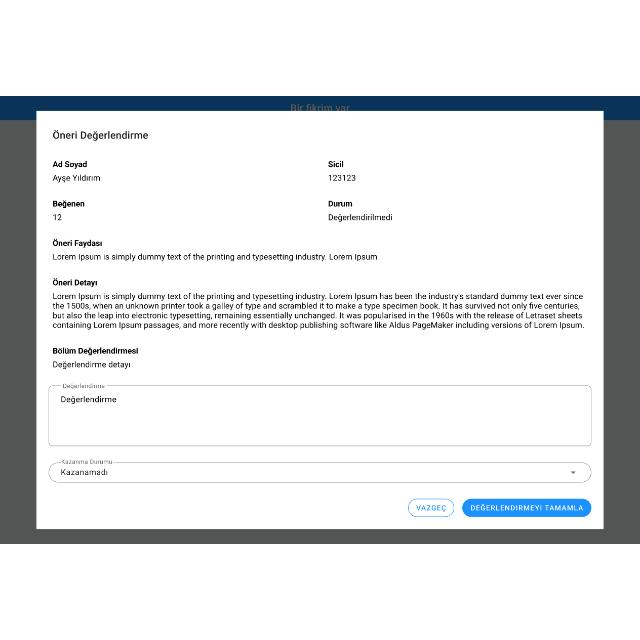QLabel: (50, 291, 586, 331), (48, 252, 378, 262), (50, 129, 150, 143), (470, 504, 584, 514), (50, 346, 138, 356), (48, 361, 134, 371), (324, 212, 394, 224), (50, 238, 106, 250), (50, 277, 100, 287), (51, 174, 101, 182), (51, 160, 89, 170), (324, 198, 354, 210), (414, 504, 448, 514), (50, 200, 86, 208), (324, 174, 358, 182), (324, 160, 346, 168), (51, 212, 65, 222)
VBtn: (462, 499, 592, 518), (408, 498, 454, 518)
VCombobox: (49, 462, 592, 484)
VDialog: (36, 110, 604, 530)
VTextarea: (48, 384, 592, 448)
